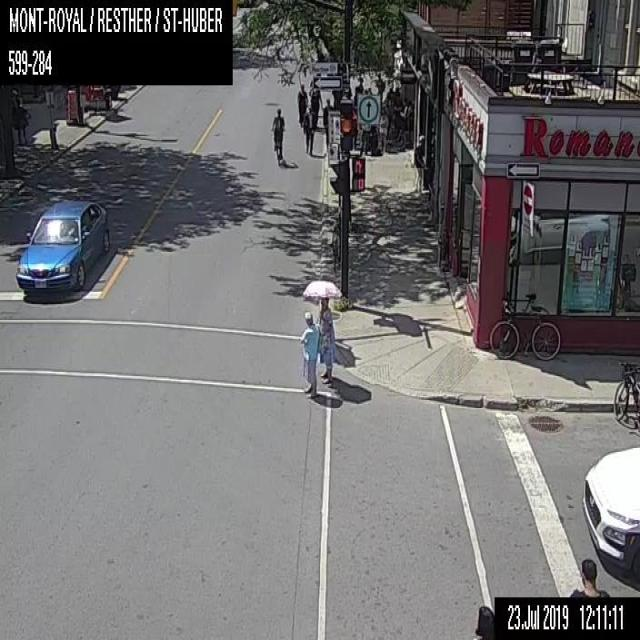construction: (66, 89, 76, 119)
cyclist: (270, 107, 285, 165)
pedestrian: (302, 280, 340, 384), (568, 558, 610, 598), (300, 311, 319, 397), (12, 96, 29, 145), (472, 604, 494, 639), (412, 134, 424, 192), (302, 105, 315, 154), (308, 85, 322, 130), (296, 82, 308, 124), (322, 97, 332, 147), (374, 72, 385, 110), (353, 76, 363, 105)
vehicle: (14, 198, 108, 297), (581, 444, 639, 581)
